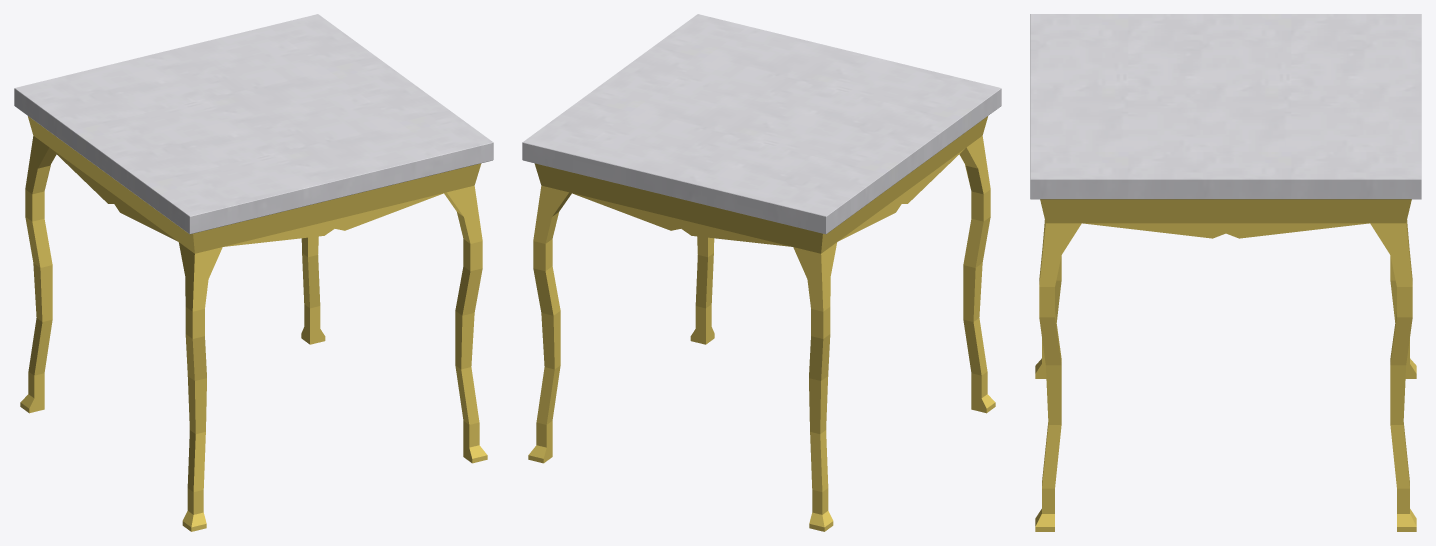
The model's file is sh-contrib-table-granmother-marble.glb.
3 renders of one model, left to right at view 1: azimuth 30°, elevation 25°; view 2: azimuth 150°, elevation 25°; view 3: azimuth 270°, elevation 25°, orthographic. The views are drawn at different scales.
Visible parts, largest first — view 1: 2_2_2, 1_1_1; view 2: 2_2_2, 1_1_1; view 3: 2_2_2, 1_1_1.
Part boxes in pixels (bbox=[...]): 2_2_2: bbox=[14, 14, 493, 234]; 1_1_1: bbox=[20, 116, 487, 531]; 2_2_2: bbox=[522, 14, 1001, 234]; 1_1_1: bbox=[528, 116, 995, 531]; 2_2_2: bbox=[1030, 14, 1421, 199]; 1_1_1: bbox=[1035, 199, 1416, 531].
Bounding box in the file's own units: 1 × 1 × 1.
2 materials, 1 textured.
